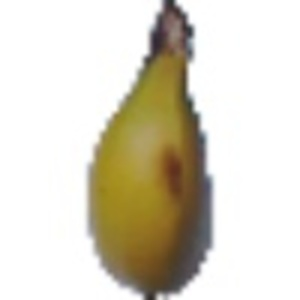banana: (89, 2, 220, 292)
